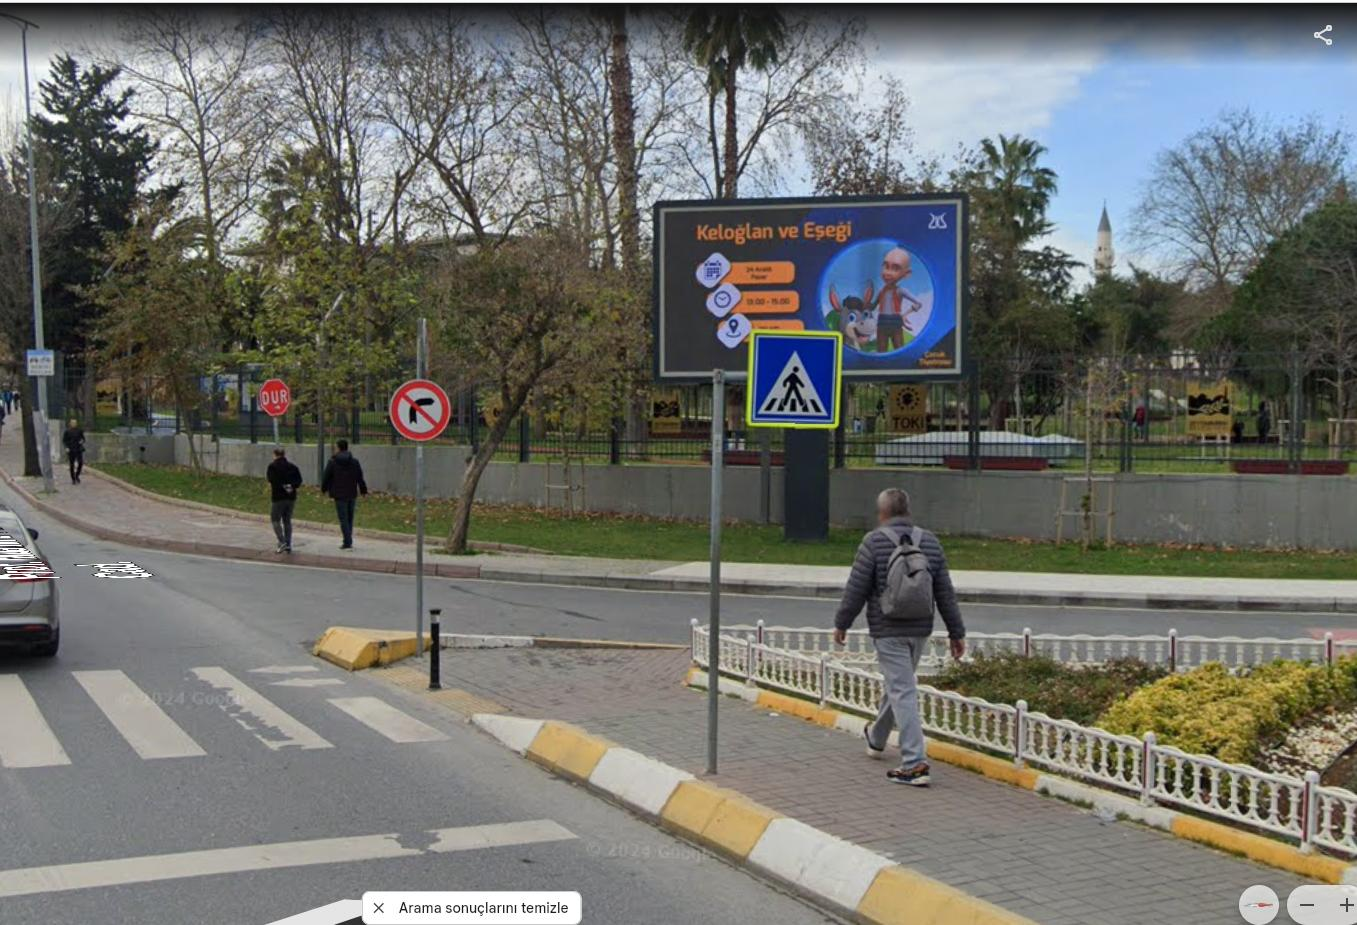rightturnsareforbidden: (395, 382, 448, 438)
stop: (261, 379, 290, 415)
